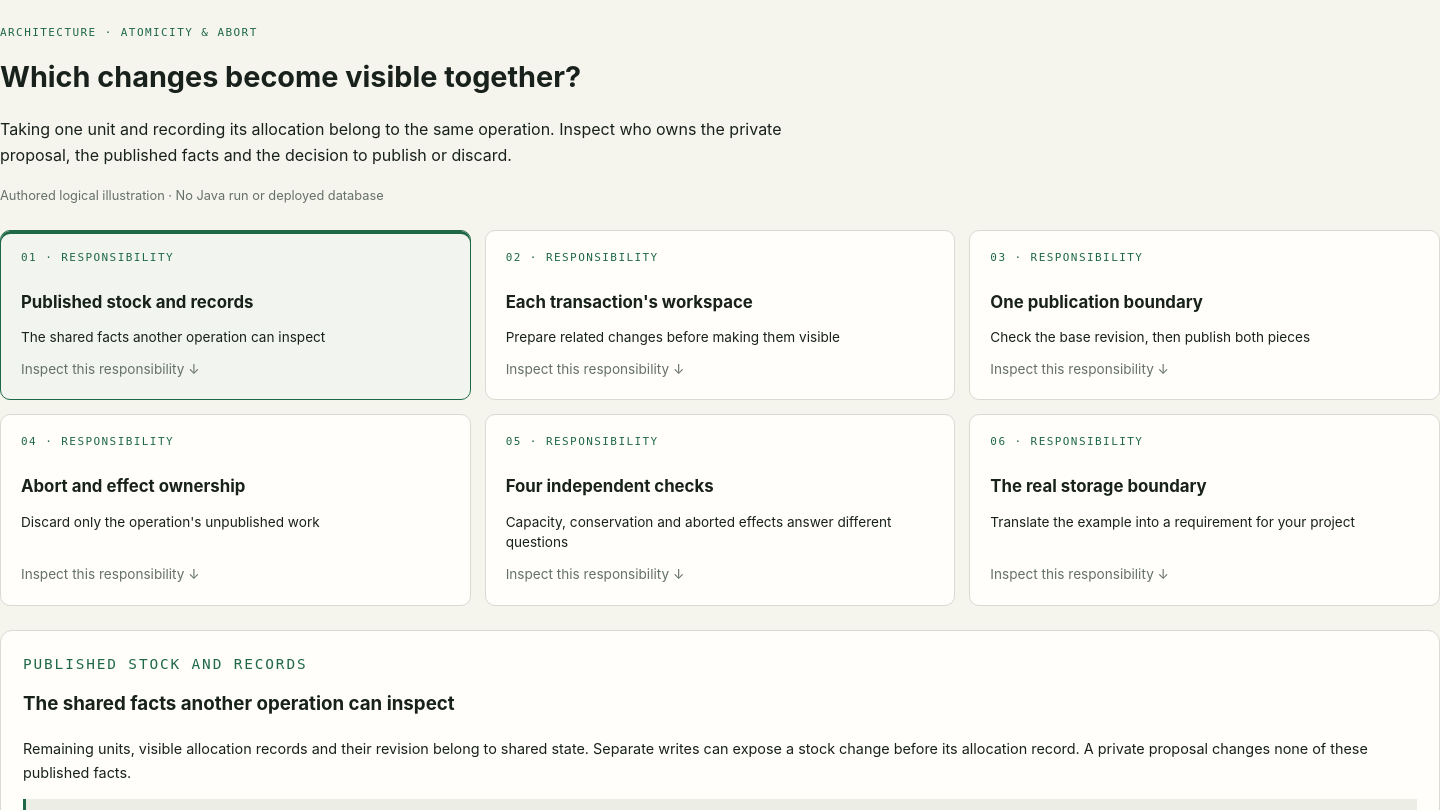
it: inspects private/published ownership and the coarse revision decision with a complete text equivalent
Click the button with aria-label "Inspect One publication boundary" at (1075,257), box x1=969 y1=230 x2=1439 y2=400
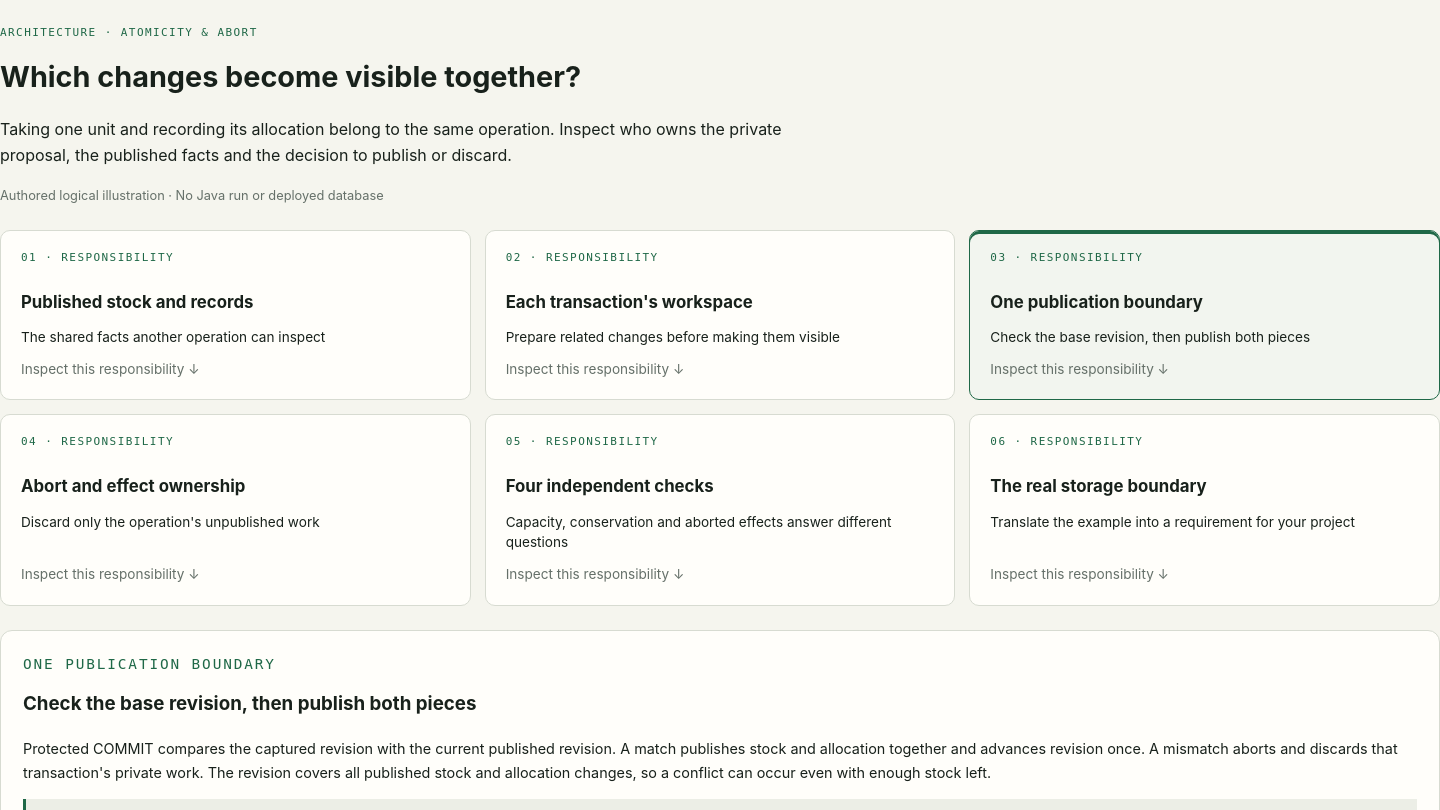
Expected: the element named "Selected atomicity responsibility" shows "a conflict can occur even with enough stock left", x1=23 y1=740 x2=1398 y2=781
Click the button with aria-label "Inspect Abort and effect ownership" at (106,442), box x1=0 y1=414 x2=471 y2=606
(page scrolled)
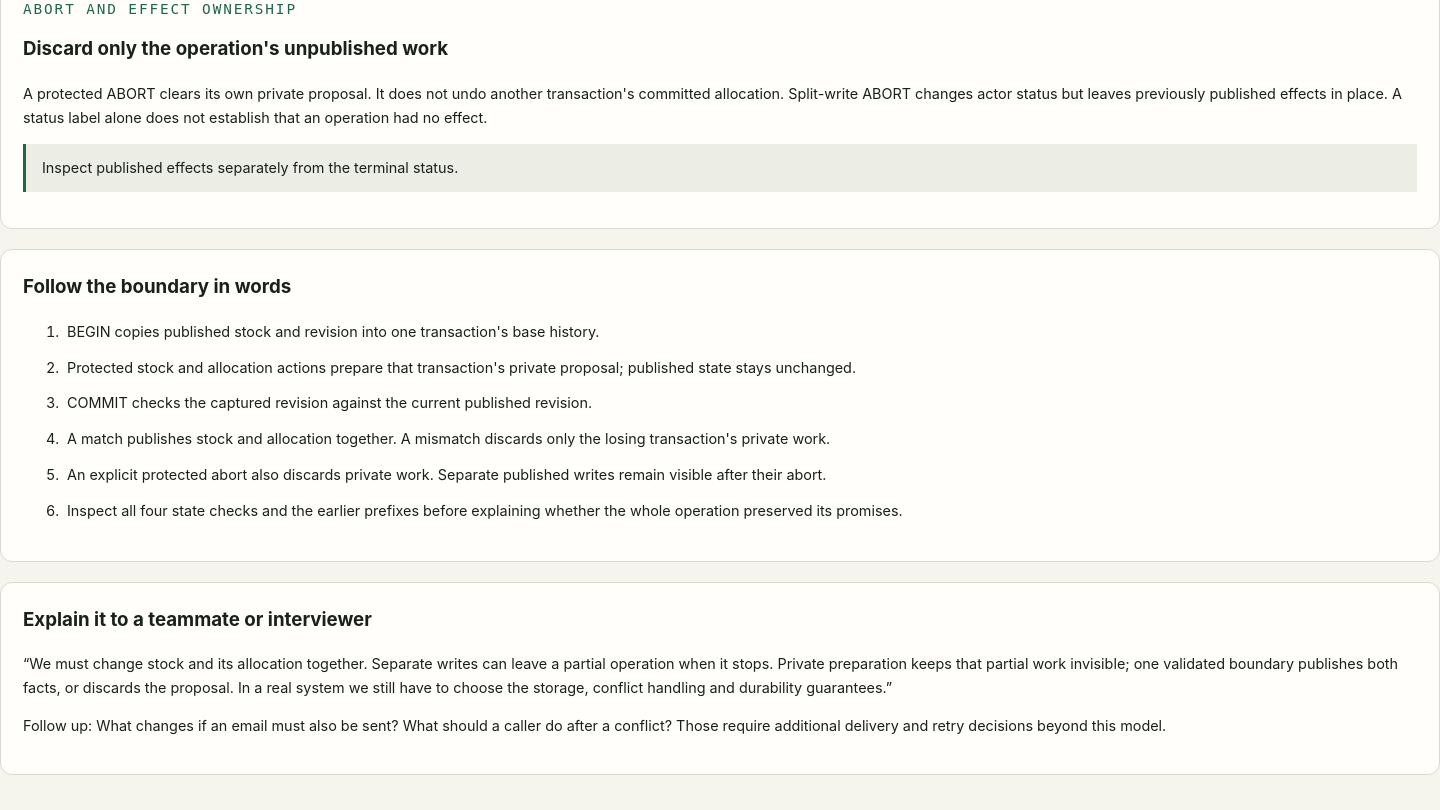
Expected: the element named "Atomicity ownership text equivalent" shows "Separate published writes remain visible after their abort", x1=67 y1=466 x2=826 y2=483
Expected: the element named "Selected atomicity responsibility" shows "does not undo another transaction's committed allocation", x1=23 y1=85 x2=1402 y2=126
